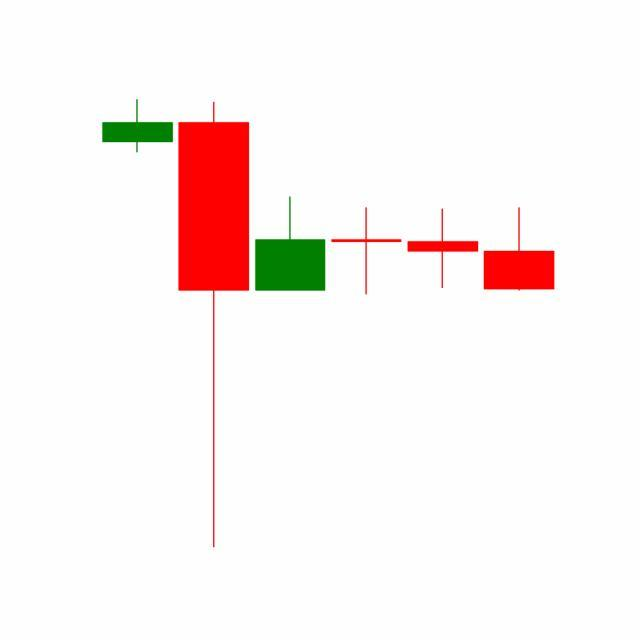Spinning Top: (404, 209, 482, 291)
